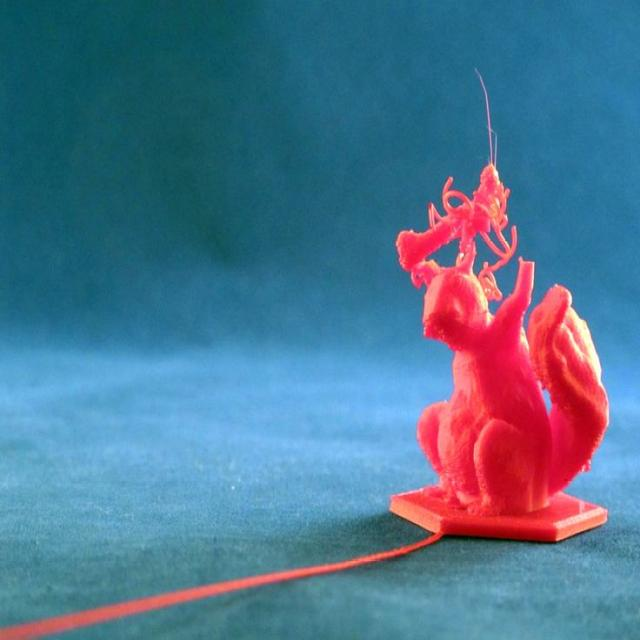spaghetti: (419, 112, 516, 304)
